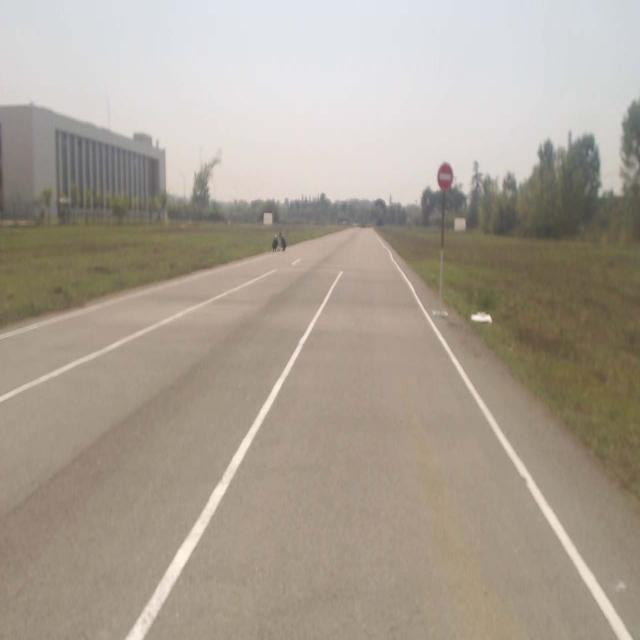girisyok: (438, 163, 452, 190)
